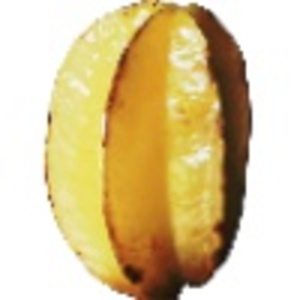carambola: (42, 1, 253, 300)
